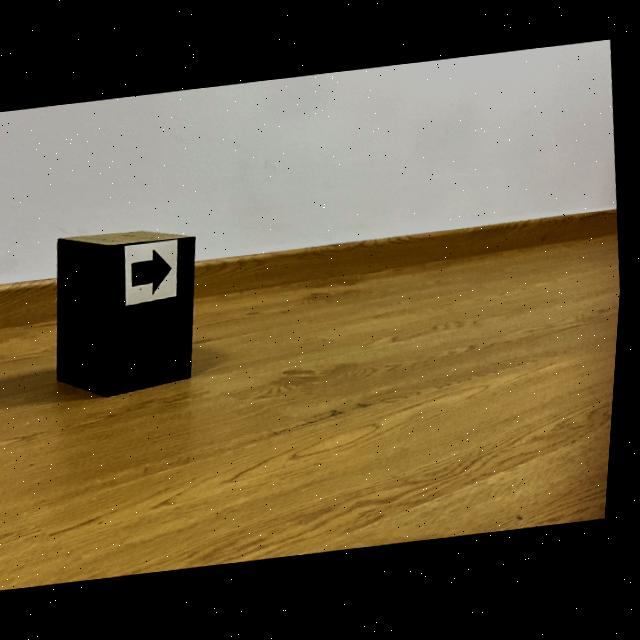RIGHT: (135, 251, 175, 292)
